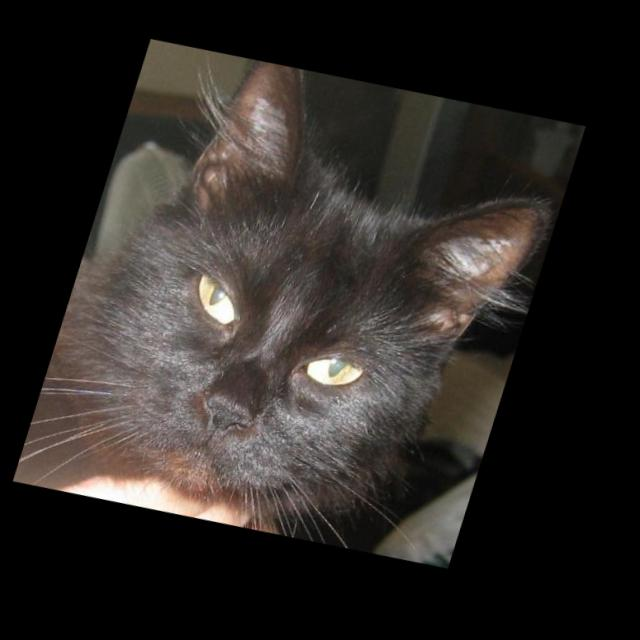animals: (121, 43, 571, 493)
